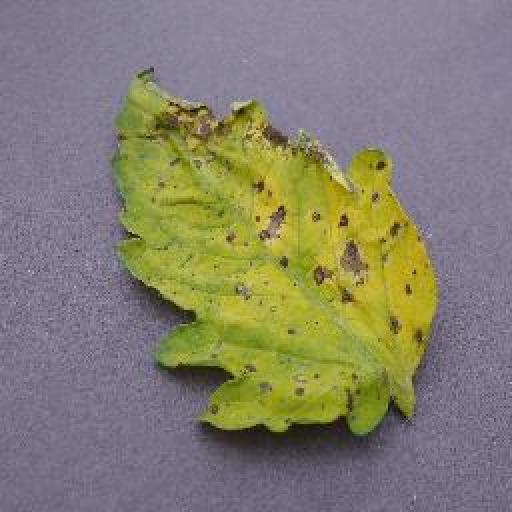disease_tomato: (115, 64, 439, 432)
